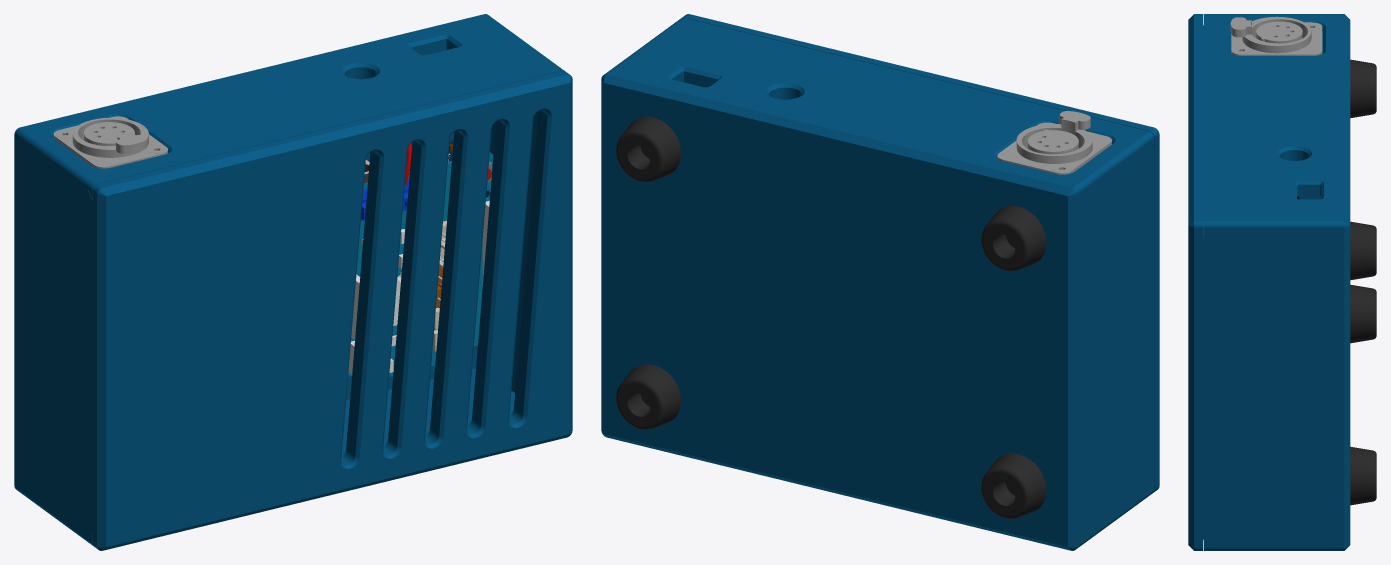
The model's file is Mic Tally Enclosure.fbx.
The picture shows the model from 3 angles, left to right: view 1: azimuth 30°, elevation 25°; view 2: azimuth 150°, elevation 25°; view 3: azimuth 270°, elevation 25°; orthographic projection. The views are drawn at different scales.
Parts seen in each view (by area): view 1: Mic Tally Enclosure Lid, Mic Tally Enclosure Box, Body1 (×2); view 2: Mic Tally Enclosure Box, Body1 (×5), Mic Tally Enclosure Lid; view 3: Mic Tally Enclosure Box, Body1 (×5), Mic Tally Enclosure Lid.
Boxes of the visible parts, left/top/right/bottom form: Mic Tally Enclosure Lid: left=88, top=71, right=572, bottom=550; Mic Tally Enclosure Box: left=14, top=14, right=564, bottom=545; Body1 (×2): left=53, top=116, right=493, bottom=376; Mic Tally Enclosure Box: left=601, top=17, right=1154, bottom=550; Body1 (×5): left=616, top=111, right=1111, bottom=518; Mic Tally Enclosure Lid: left=682, top=14, right=1159, bottom=492; Mic Tally Enclosure Box: left=1203, top=14, right=1350, bottom=550; Body1 (×5): left=1230, top=16, right=1376, bottom=505; Mic Tally Enclosure Lid: left=1188, top=14, right=1203, bottom=550.
Size of the model in its own units: 170 by 132 by 64.2.
